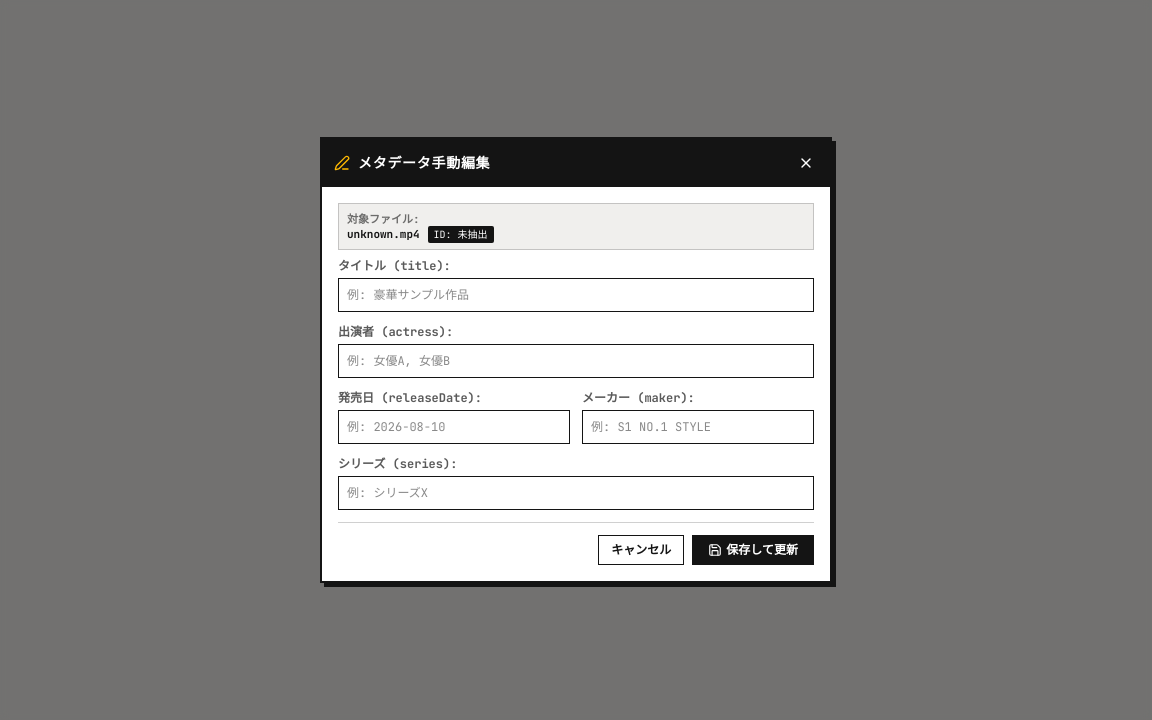
Test: MetadataEditModal › タイトルと作品IDがない場合はエラーを表示して保存しない
Click the button "保存して更新" at coordinates (753, 550), box [692,535,814,565]
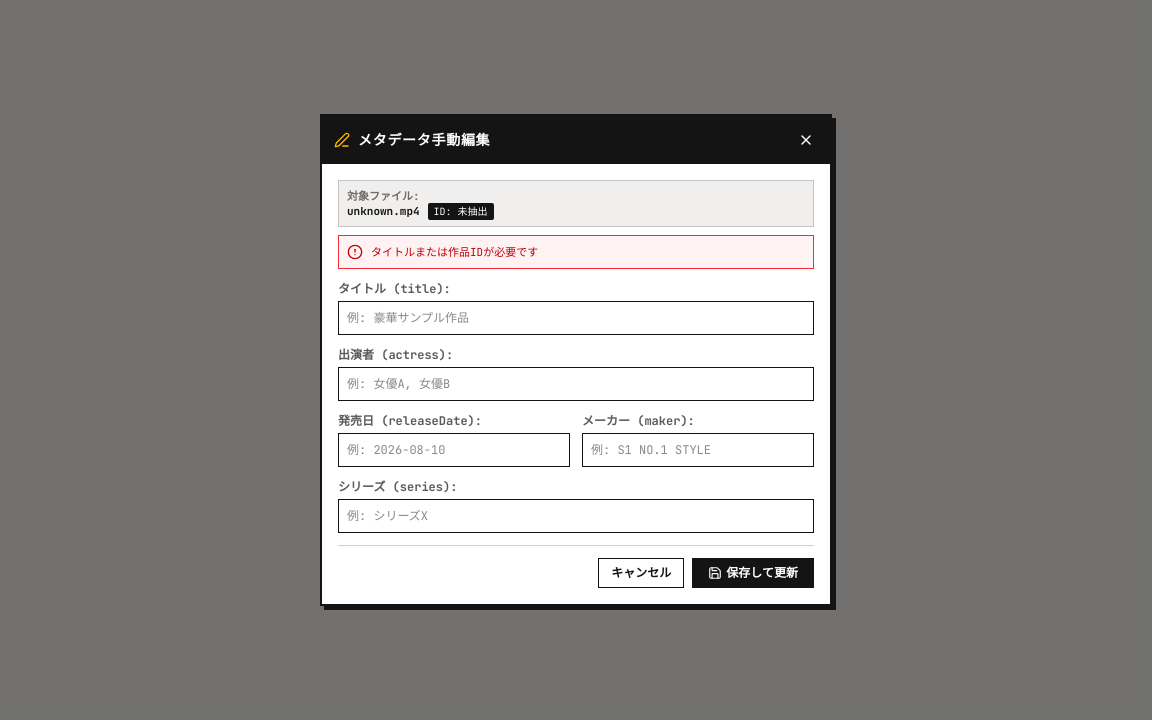
Expected: the text "タイトルまたは作品IDが必要です" is shown, [371,245,538,260]
